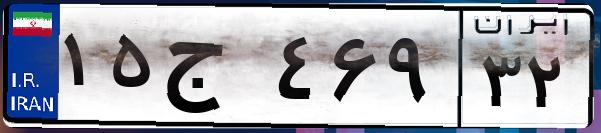1: (57, 26, 110, 100)
2: (525, 38, 570, 115)
3: (475, 38, 525, 113)
4: (270, 28, 330, 110)
5: (110, 28, 158, 98)
6: (330, 28, 385, 110)
9: (385, 28, 445, 110)
ج: (158, 20, 270, 120)
